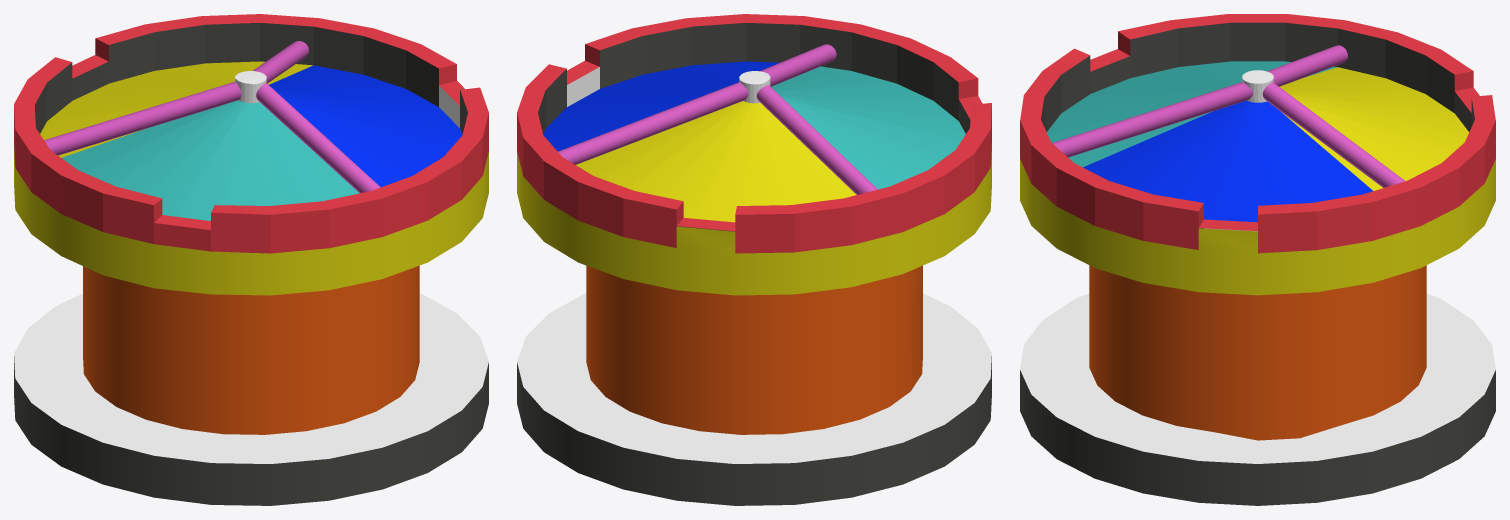
The model's file is color shap 13.FBX.
3 renders of one model, left to right at view 1: azimuth 30°, elevation 25°; view 2: azimuth 150°, elevation 25°; view 3: azimuth 270°, elevation 25°, orthographic.
Parts seen in each view (by area): view 1: Cylinder002; view 2: Cylinder002; view 3: Cylinder002.
Boxes of the visible parts, <box> form: Cylinder002: <box>14,14,488,505</box>; Cylinder002: <box>517,14,991,505</box>; Cylinder002: <box>1020,14,1495,505</box>.
Size of the model in its own units: 231 by 177 by 232.
Materials: 1 (1 with a texture image).
